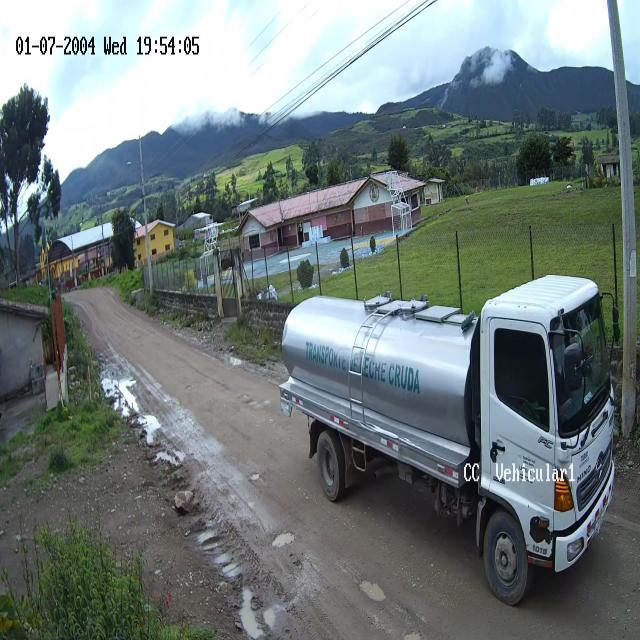TRUCK: (280, 276, 617, 607)
